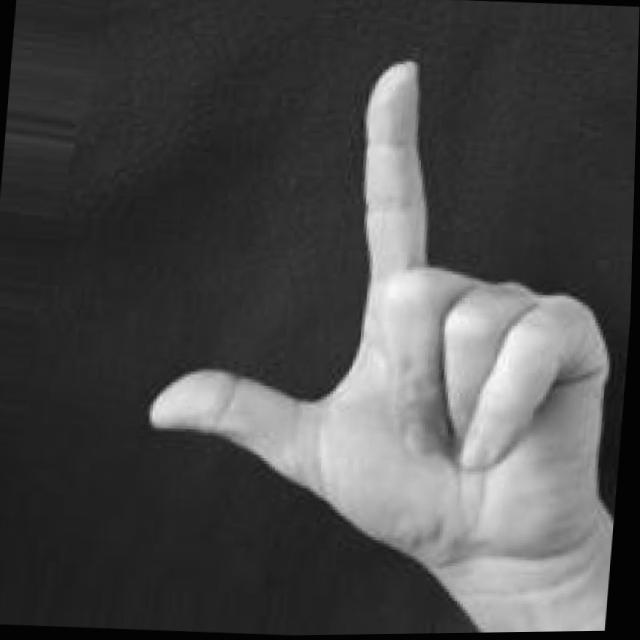L: (113, 38, 639, 577)
